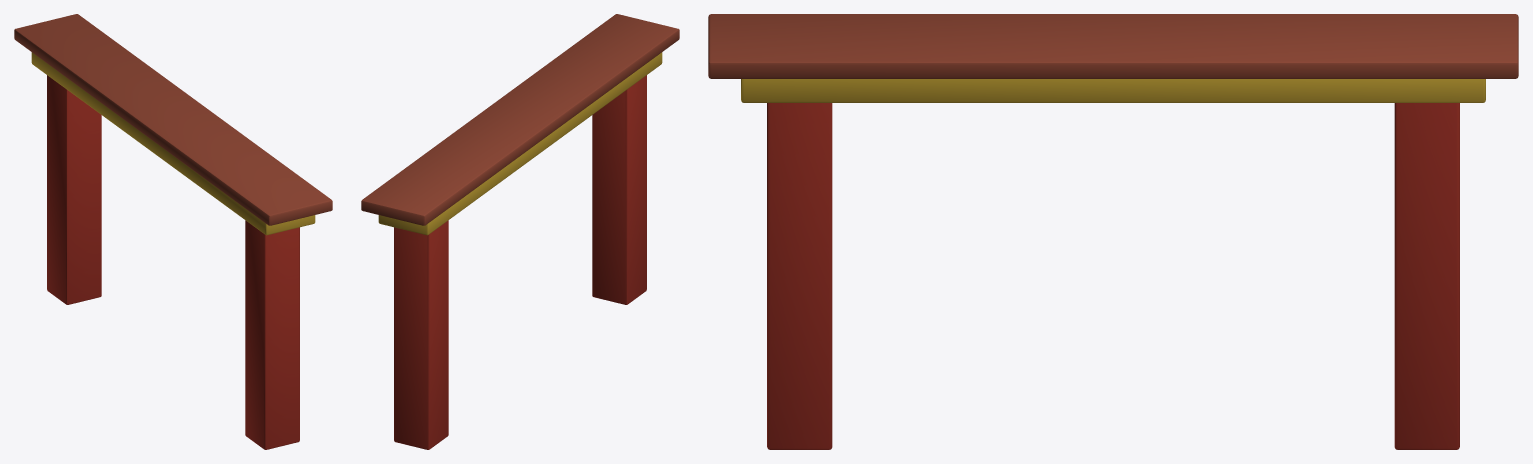
Rendered from pl-marketgate.glb.
3 views of the same model, side by side, from view 1: azimuth 30°, elevation 25°; view 2: azimuth 150°, elevation 25°; view 3: azimuth 270°, elevation 25° (orthographic). The views are drawn at different scales.
Bounding box in the file's own units: 1.8 × 6.75 × 12.4.
